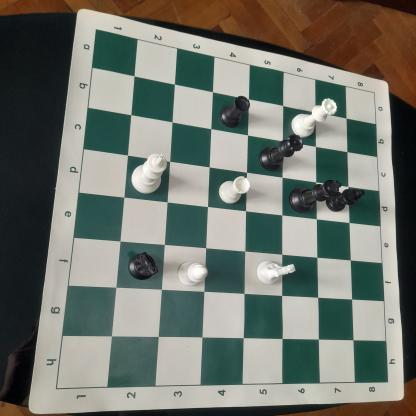black-bishop: (322, 184, 366, 214)
black-king: (287, 176, 344, 217)
black-knight: (127, 247, 161, 284)
black-queen: (258, 134, 305, 174)
black-rook: (218, 92, 251, 131)
white-bishop: (174, 258, 210, 290)
white-king: (127, 150, 169, 197)
white-knight: (254, 252, 297, 288)
white-queen: (288, 95, 340, 144)
white-rook: (216, 172, 252, 206)
